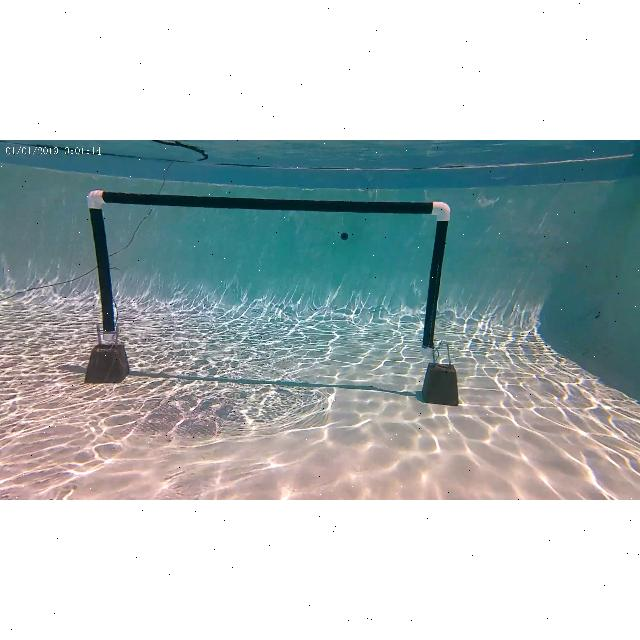prequal gate: (88, 190, 450, 356)
prequal gate leg l: (84, 188, 132, 348)
prequal gate leg r: (422, 198, 451, 362)
